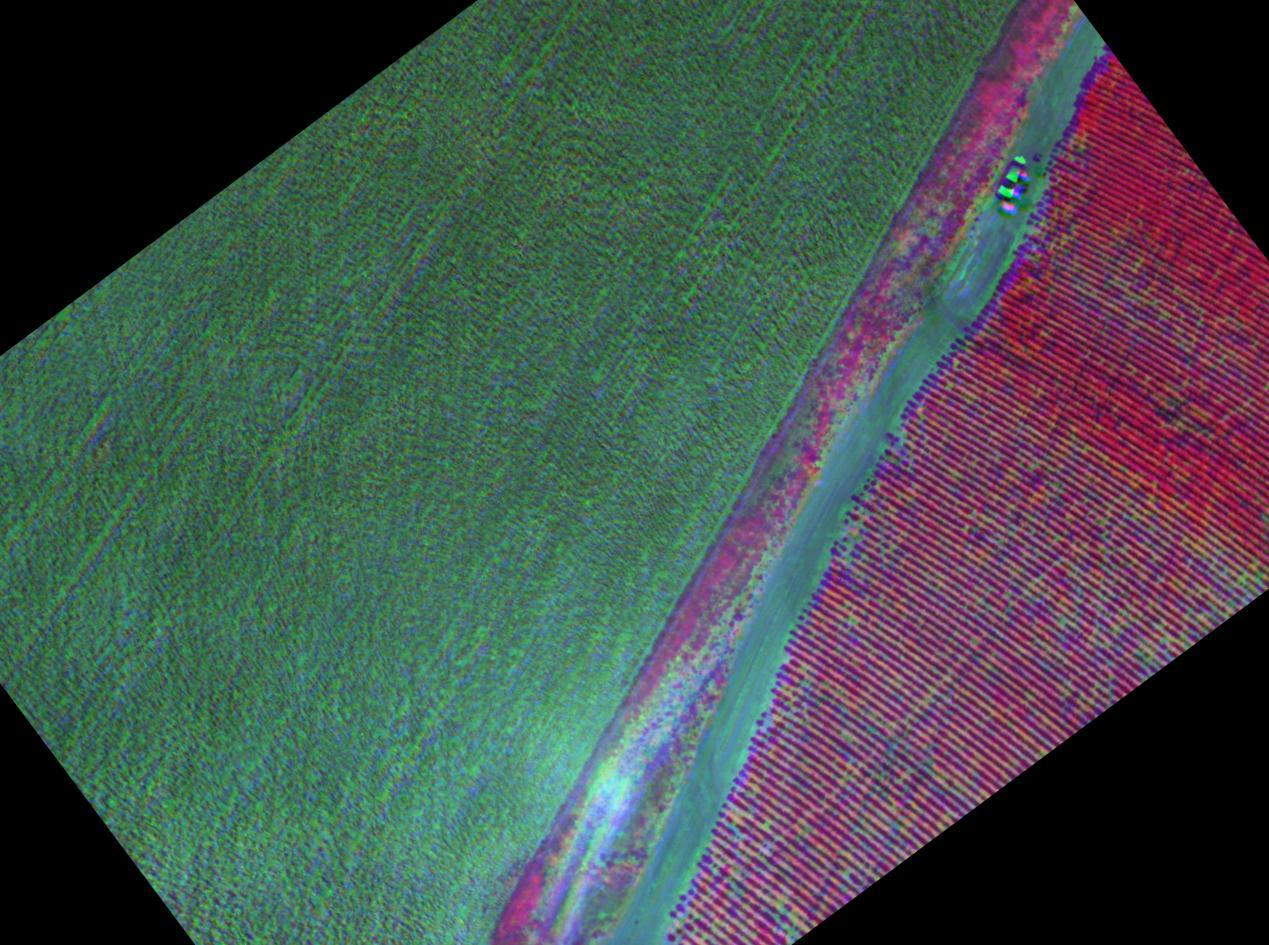dc: (1089, 613, 1167, 674), (1183, 540, 1266, 597), (823, 726, 872, 780), (758, 898, 805, 943), (844, 518, 877, 563)
